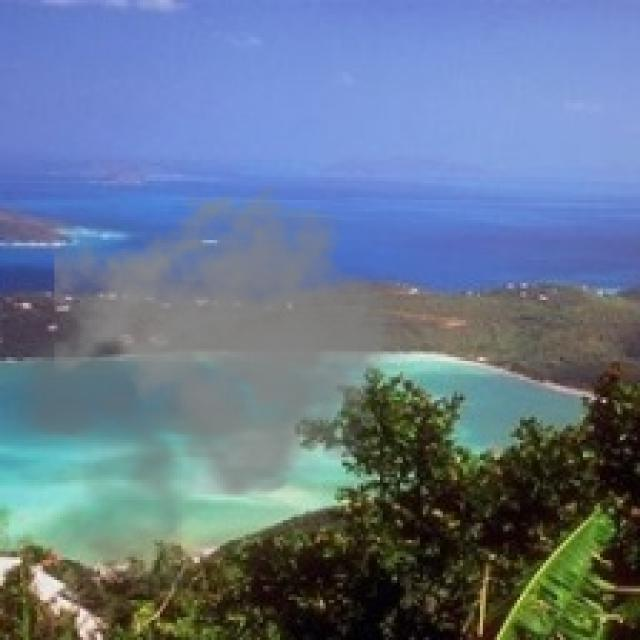Smoke: (3, 182, 420, 608)
